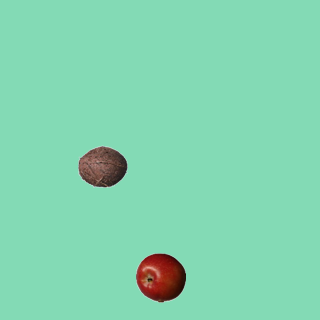Apple Braeburn: (135, 252, 185, 302)
Cocos: (77, 141, 127, 191)
